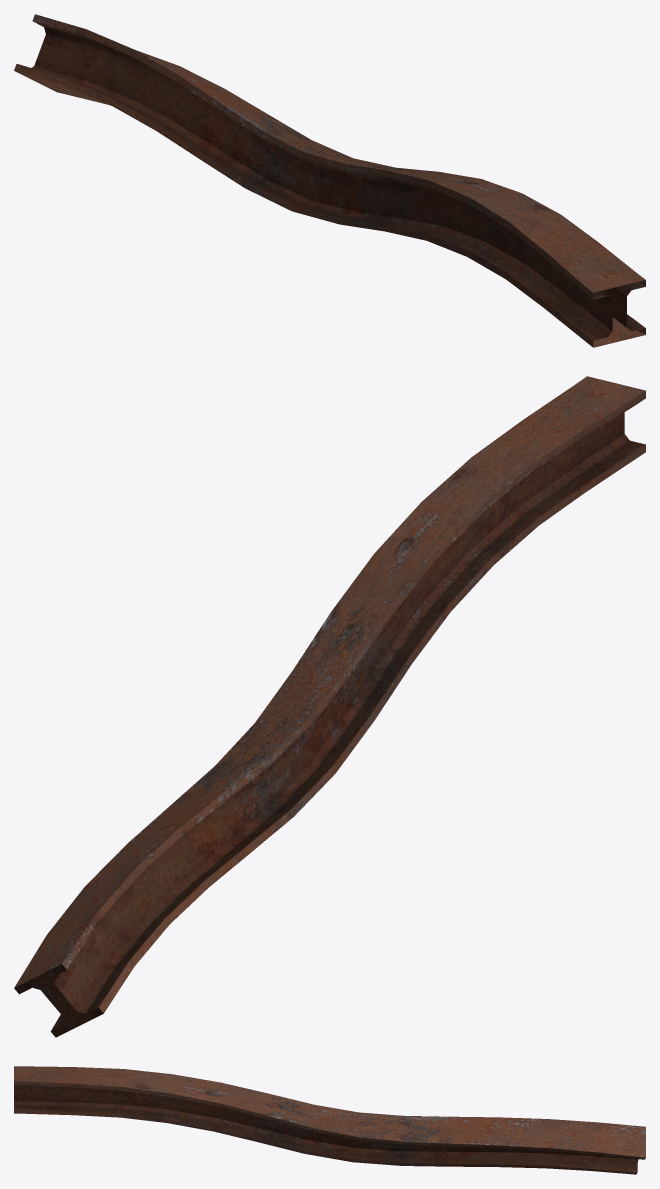
The model's file is girder_rusty_damaged_long.dae.
The picture shows the model from 3 angles, top to bottom: view 1: azimuth 30°, elevation 25°; view 2: azimuth 150°, elevation 25°; view 3: azimuth 270°, elevation 25°; orthographic projection. The views are drawn at different scales.
Visible parts, largest first — view 1: girder_rusty_damaged_long; view 2: girder_rusty_damaged_long; view 3: girder_rusty_damaged_long.
Part boxes in pixels (left/top/right/bottom): girder_rusty_damaged_long: left=14, top=14, right=645, bottom=347; girder_rusty_damaged_long: left=14, top=376, right=645, bottom=1037; girder_rusty_damaged_long: left=14, top=1066, right=645, bottom=1174.
Size of the model in its own units: 0.5377 by 0.8571 by 4.45.
